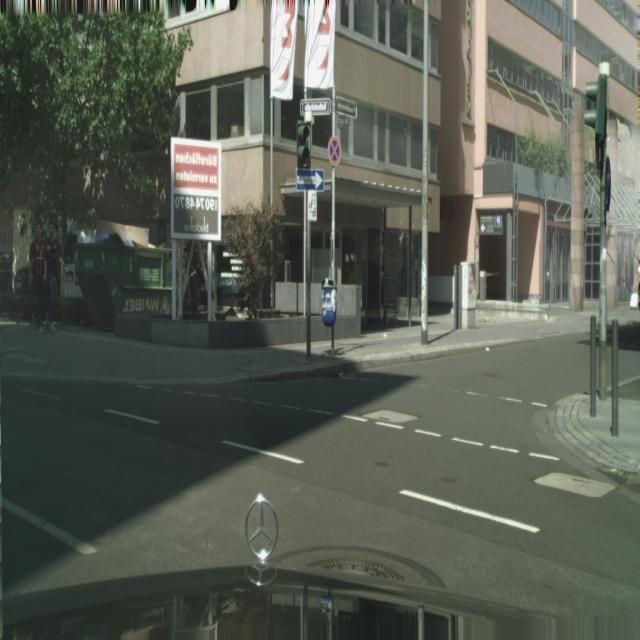person: (45, 222, 64, 330), (29, 221, 47, 332)
